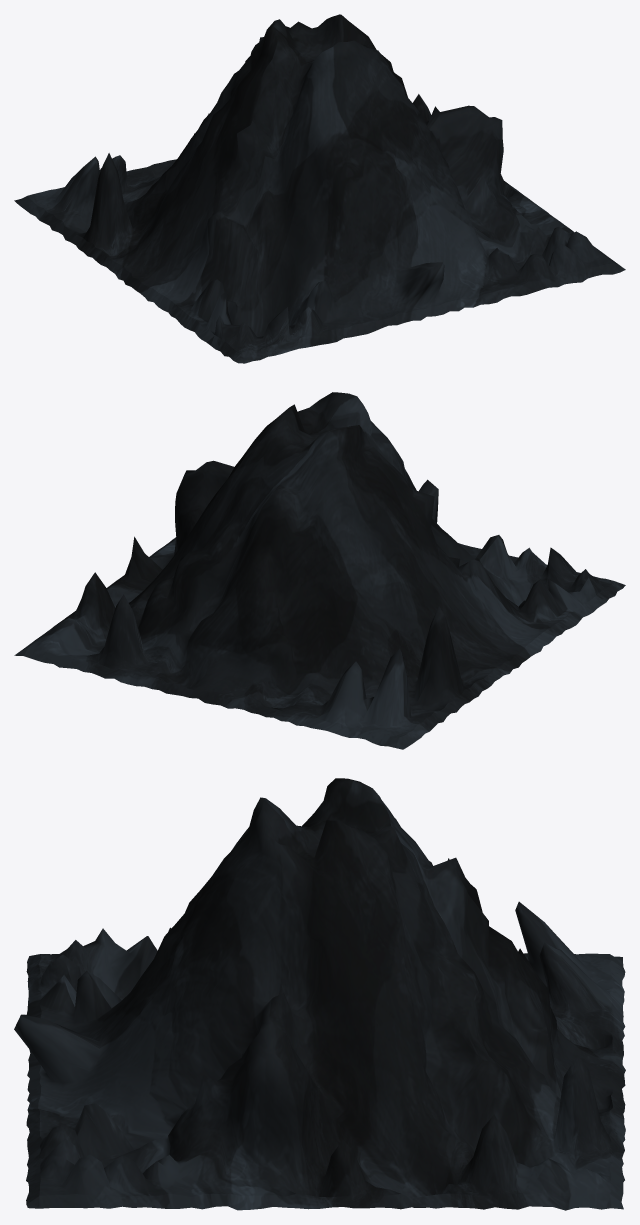
The model's file is Vulcao.fbx.
The picture shows the model from 3 angles, top to bottom: view 1: azimuth 30°, elevation 25°; view 2: azimuth 150°, elevation 25°; view 3: azimuth 270°, elevation 25°; orthographic projection. The views are drawn at different scales.
Parts seen in each view (by area): view 1: Vulcan; view 2: Vulcan; view 3: Vulcan.
Part boxes in pixels (<box>): Vulcan: <box>14,14,625,363</box>; Vulcan: <box>14,392,625,749</box>; Vulcan: <box>14,778,625,1210</box>.
Bounding box in the file's own units: 36544 × 21349 × 37257.
